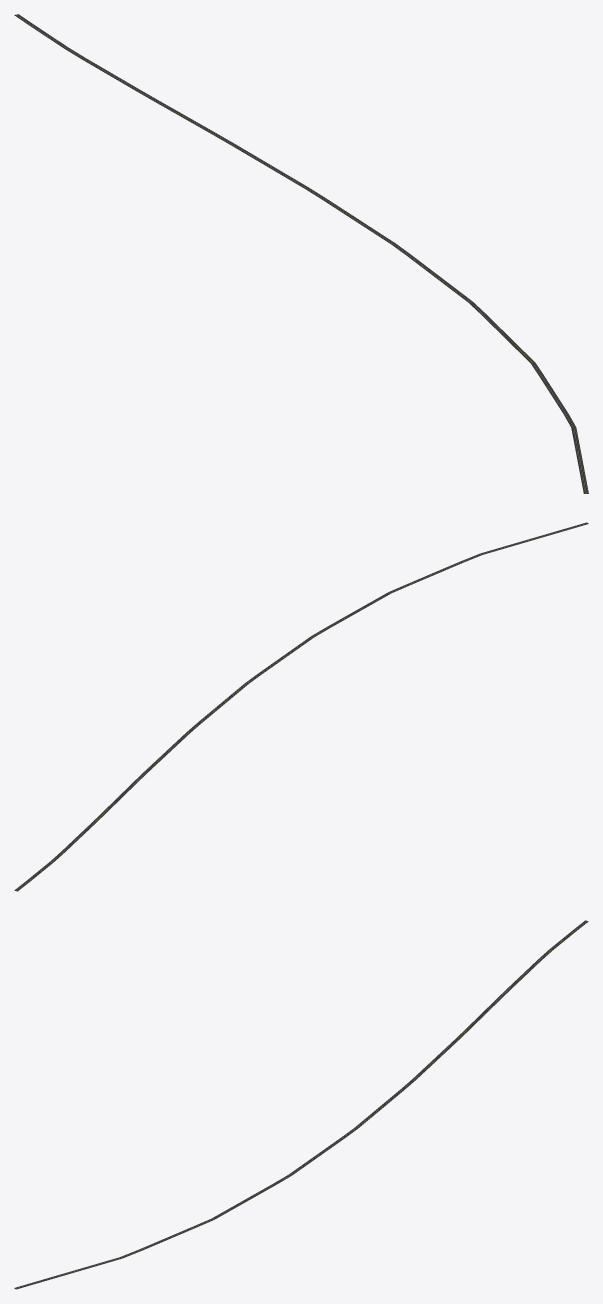
Rendered from nav-mesh@1.0.0.glb.
The picture shows the model from 3 angles, top to bottom: view 1: azimuth 30°, elevation 25°; view 2: azimuth 150°, elevation 25°; view 3: azimuth 330°, elevation 25°; orthographic projection. The views are drawn at different scales.
Visible parts, largest first — view 1: carpet.001; view 2: carpet.001; view 3: carpet.001.
Part boxes in pixels (bbox=[...]): carpet.001: bbox=[14, 14, 588, 493]; carpet.001: bbox=[14, 522, 588, 891]; carpet.001: bbox=[14, 920, 588, 1289].
Size of the model in its own units: 635 by 1.43e-05 by 6041.
1 material, 1 textured.
